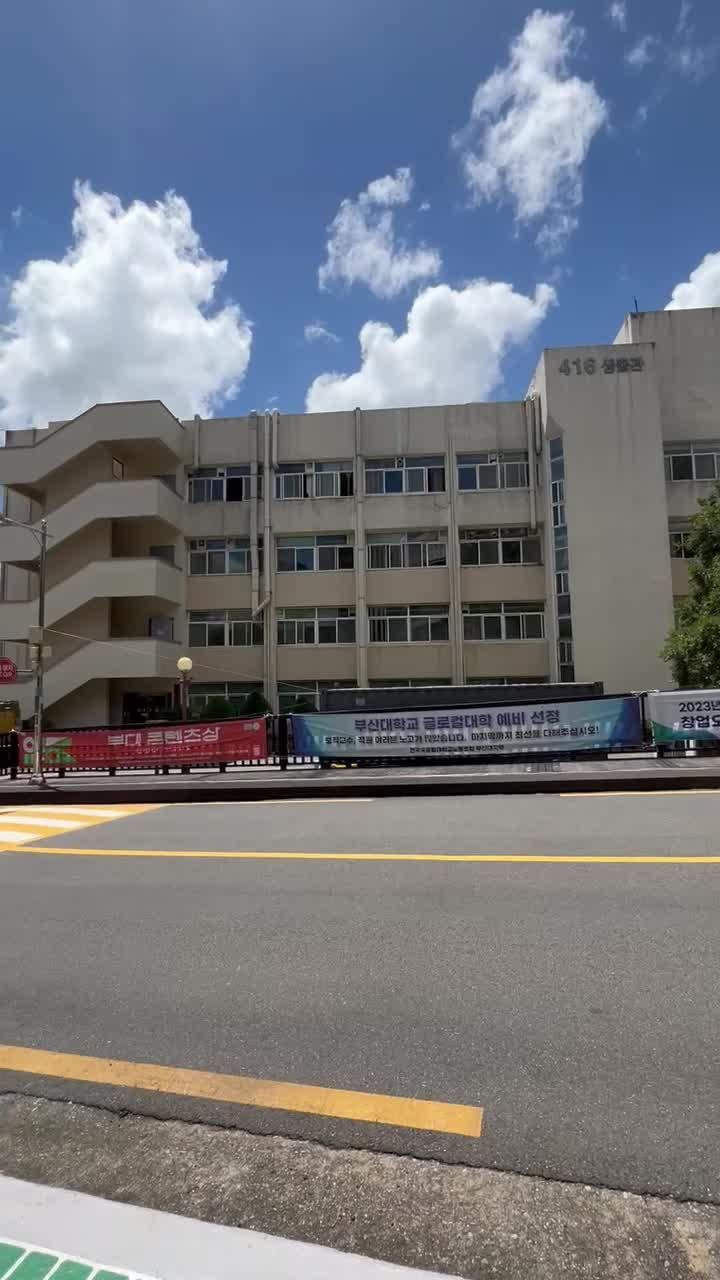building: (18, 324, 690, 696)
